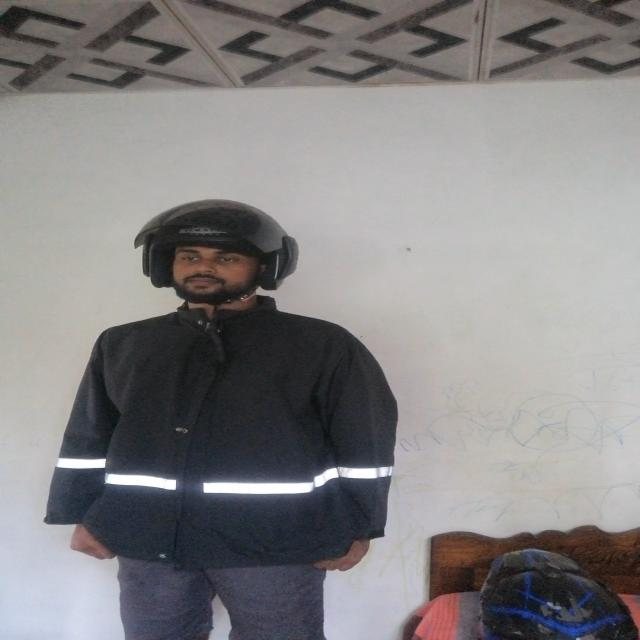Helmet_Wearer: (115, 202, 289, 320)
Jacket_Wearer: (47, 300, 397, 538)
Person: (78, 196, 392, 640)
